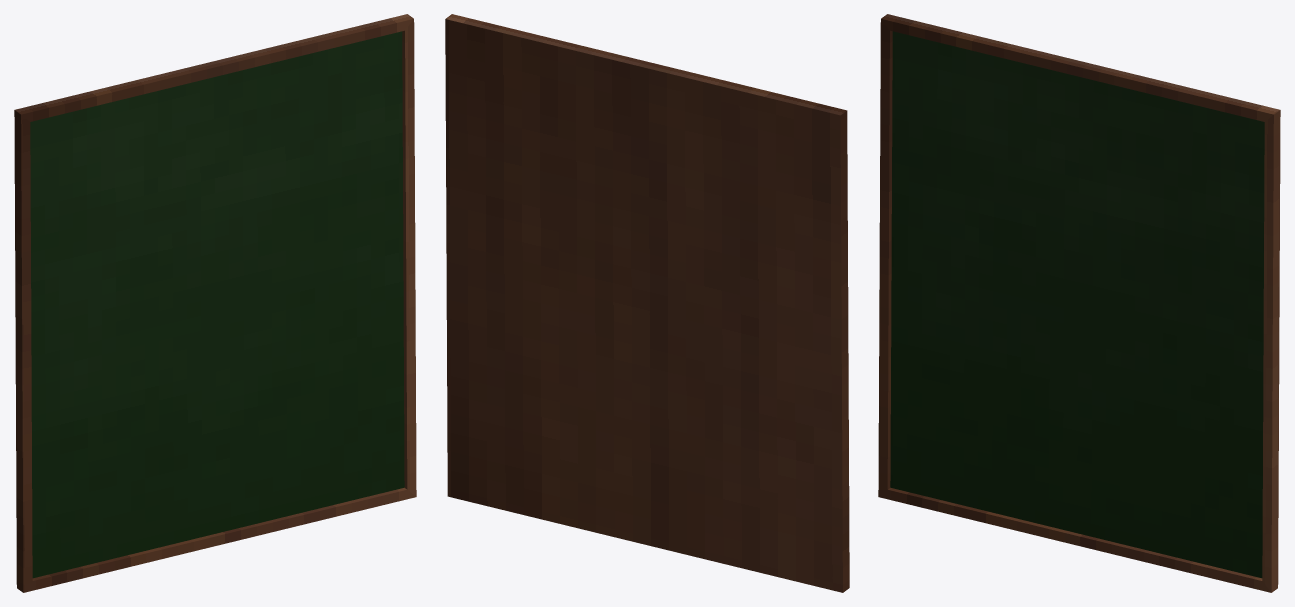
File: ChalkBoard.fbx
3 views of the same model, side by side, from view 1: azimuth 30°, elevation 25°; view 2: azimuth 150°, elevation 25°; view 3: azimuth 330°, elevation 25° (orthographic).
Visible parts, largest first — view 1: Cube_7; view 2: Cube_7; view 3: Cube_7.
Part boxes in pixels (x1,y1,x2,y2): Cube_7: (14, 14, 416, 592); Cube_7: (445, 14, 849, 592); Cube_7: (878, 14, 1280, 592).
Size of the model in its own units: 130 by 151 by 5.19.
1 material, 1 textured.
